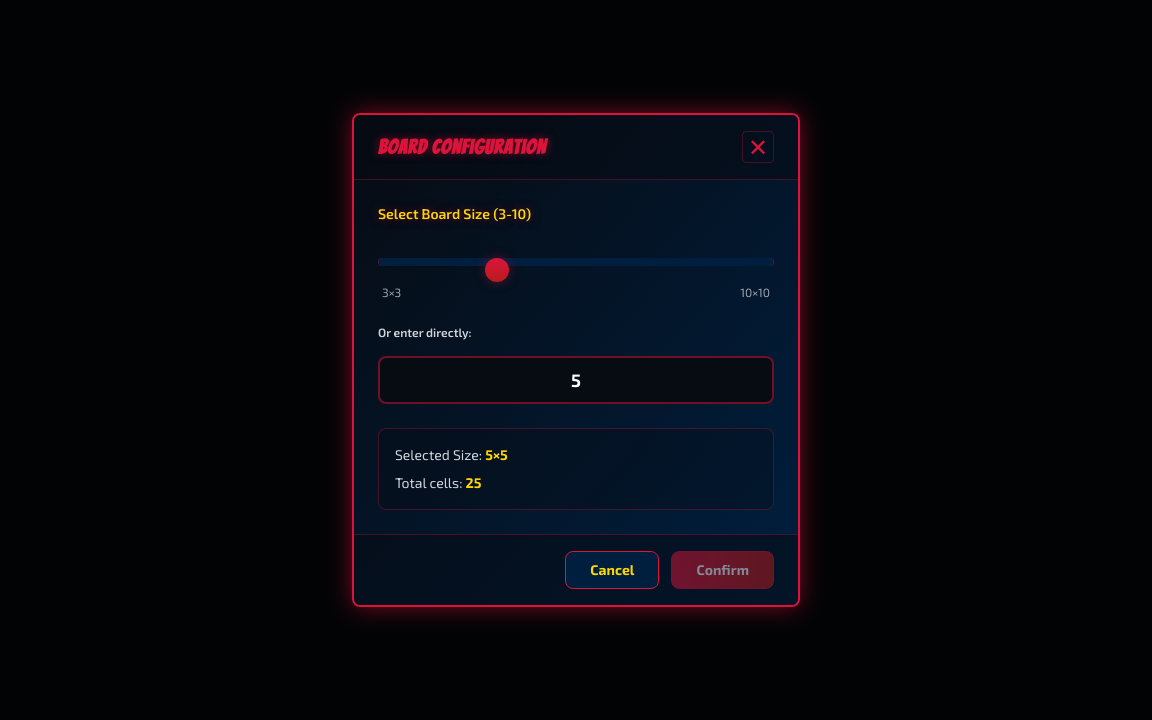
it: BoardConfiguration.vue › Confirm Button Behavior › should be enabled when size is changed to valid value
Step 1. Set the slider with id "board-size-slider" to "7" → point(603, 262), box [378,258,774,266]
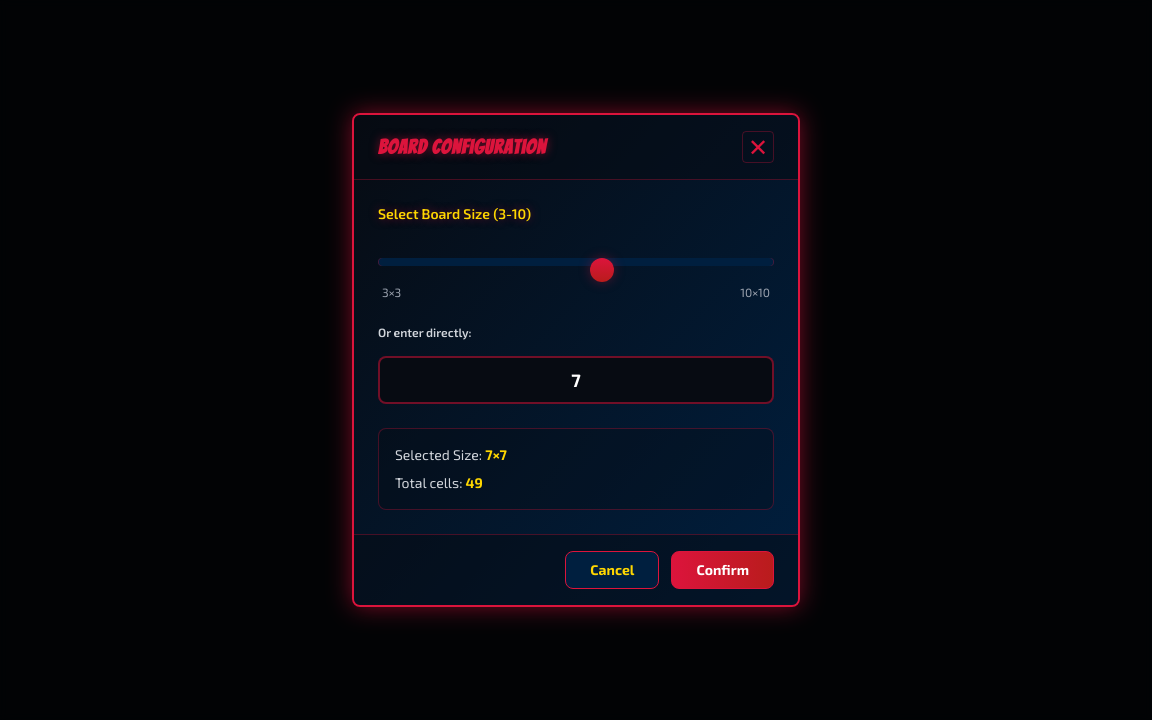
expect the button "Confirm" is enabled: met, box [671,551,774,589]
